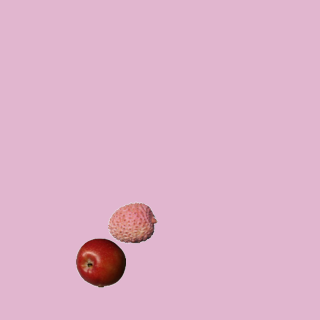Apple Braeburn: (75, 237, 125, 287)
Lychee: (107, 197, 157, 247)
